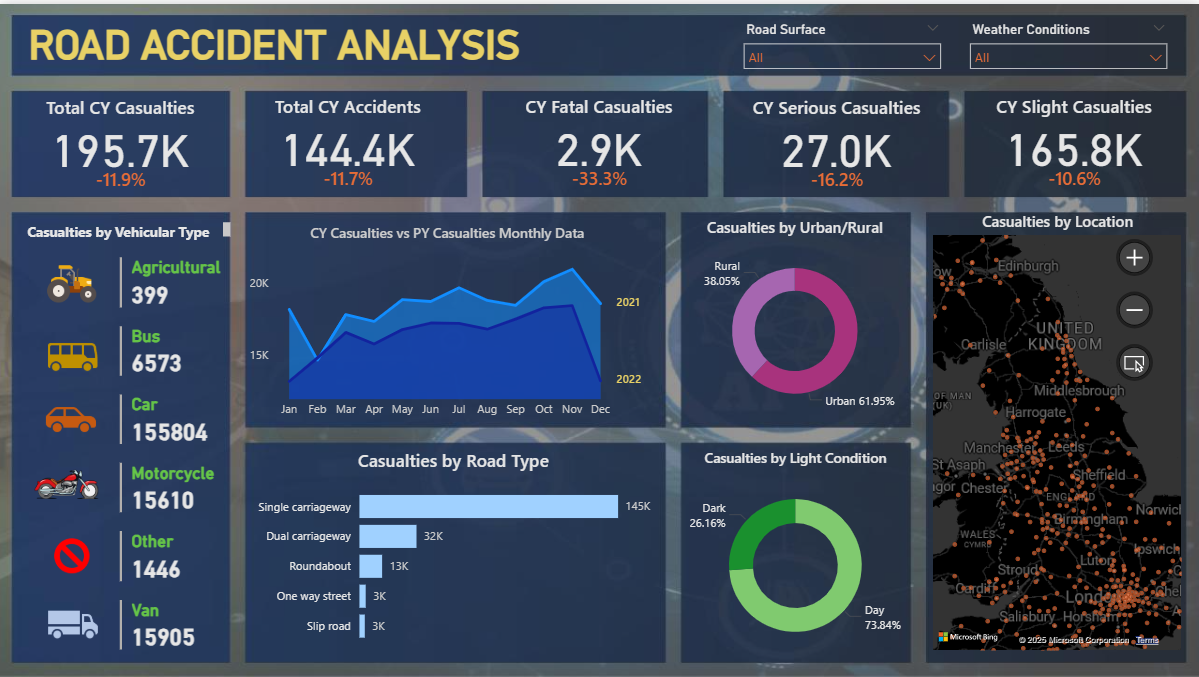

This screenshot's page, from the dashboard's own definition file:
{"tool":"powerbi","page":{"name":"Page 1","canvas":[1280,720],"ordinal":0},"visuals":[{"type":"card","title":"Total CY Accidents","fields":{"Values":["Data.CY Accidents Count"]},"box":[251.1,96.1,242.9,83.5],"z":0,"group":"g2"},{"type":"card","title":" CY Fatal Casualties","fields":{"Values":["Data.CY Casualties"]},"box":[518.5,96.1,242.9,83.5],"z":0,"group":"g3"},{"type":"card","title":" CY Slight Casualties","fields":{"Values":["Data.CY Casualties"]},"box":[1025.4,96.1,242.9,83.5],"z":0,"group":"g5"},{"type":"group","id":"g1","title":"Group 1","box":[8.2,97.4,242.9,120.8],"z":0},{"type":"card","title":"Total CY Casualties","fields":{"Values":["Data.CY Casualties"]},"box":[8.2,97.4,242.9,83.5],"z":0,"group":"g1"},{"type":"card","title":" CY Serious Casualties","fields":{"Values":["Data.CY Casualties"]},"box":[772,97.6,242.9,83.5],"z":0,"group":"g4"},{"type":"group","id":"g2","title":"Group 1","box":[251.1,96.1,244.3,120.8],"z":1000},{"type":"card","fields":{"Values":["Data.YoY Accidents"]},"box":[327.9,159,89.2,57.8],"z":1000,"group":"g2"},{"type":"card","fields":{"Values":["Data.YoY Casualties"]},"box":[595.3,159,89.2,57.8],"z":1000,"group":"g3"},{"type":"card","fields":{"Values":["Data.YoY Casualties"]},"box":[1102.2,159,89.2,57.8],"z":1000,"group":"g5"},{"type":"card","fields":{"Values":["Data.YoY Casualties"]},"box":[85,160.3,89.2,57.8],"z":1000,"group":"g1"},{"type":"card","fields":{"Values":["Data.YoY Casualties"]},"box":[848.8,160.5,89.2,57.8],"z":1000,"group":"g4"},{"type":"group","id":"g3","title":"Group 1","box":[518.5,96.1,241.8,120.9],"z":2000},{"type":"group","id":"g4","title":"Group 1","box":[772,97.6,241.8,120.9],"z":3000},{"type":"group","id":"g5","title":"Group 1","box":[1025.4,96.1,241.8,120.9],"z":4000},{"type":"textbox","box":[26.2,13.1,549.1,62.6],"z":5000},{"type":"multiRowCard","fields":{"Values":["Data.Vehicle_Type (groups)","Data.CY Casualties"]},"box":[123.8,265.1,147.1,454.4],"z":6000},{"type":"image","box":[24.8,627.8,107.8,67],"z":7000},{"type":"image","box":[26.2,492.3,90.3,40.8],"z":8000},{"type":"image","box":[32,265.1,91.8,65.5],"z":9000},{"type":"image","box":[26.2,409.3,100.5,68.5],"z":10000},{"type":"image","box":[49.5,559.3,56.8,59.7],"z":11000},{"type":"image","box":[42.2,342.3,71.4,67],"z":12000},{"type":"textbox","box":[24.7,227.8,226.4,31.6],"z":13000},{"type":"areaChart","title":"CY Casualties vs PY Casualties Monthly Data","fields":{"Category":["Cal.Month"],"Y":["Sum(Data.Number_of_Casualties)"],"Series":["Cal.Date.Variation.Date Hierarchy.Year"]},"box":[262.3,233.6,430.9,217.3],"z":14000},{"type":"donutChart","title":" Casualties by Urban/Rural","fields":{"Category":["Data.Urban_or_Rural_Area"],"Y":["Data.CY Casualties"]},"box":[726.8,227.2,244.7,222.9],"z":15000},{"type":"donutChart","title":"Casualties by Light Condition","fields":{"Y":["Data.CY Casualties"],"Category":["Data.Light_Conditions (groups)"]},"box":[719.5,473.4,259.3,231.6],"z":16000},{"type":"barChart","title":"Casualties by Road Type","fields":{"Category":["Data.Road_Type"],"Y":["Data.CY Casualties"]},"box":[262.2,473.4,444.2,221.4],"z":17000},{"type":"map","title":"Casualties by Location","fields":{"X":["Data.Longitude"],"Y":["Data.Latitude"],"Category":["Data.Local_Authority_(District)"]},"box":[992.1,219.6,274.4,474.8],"z":18000},{"type":"slicer","fields":{"Values":["Data.Weather_Conditions (groups)"]},"box":[1025.1,13.5,231.1,63],"z":19000},{"type":"slicer","fields":{"Values":["Data.Road_Surface_Conditions (groups)"]},"box":[783.5,13.5,231.1,63],"z":20000}]}

Visuals, with their boxes in screenshot pixels (x1, y1, x2, y2), scaled from the page's 1280x720 canvas onto the 1199x677 screenshot:
"Total CY Accidents" card: 235, 90, 463, 169
" CY Fatal Casualties" card: 486, 90, 713, 169
" CY Slight Casualties" card: 961, 90, 1188, 169
"Group 1" group: 8, 92, 235, 205
"Total CY Casualties" card: 8, 92, 235, 170
" CY Serious Casualties" card: 723, 92, 951, 170
"Group 1" group: 235, 90, 464, 204
card - Data.YoY Accidents: 307, 150, 391, 204
card - Data.YoY Casualties: 558, 150, 641, 204
card - Data.YoY Casualties: 1032, 150, 1116, 204
card - Data.YoY Casualties: 80, 151, 163, 205
card - Data.YoY Casualties: 795, 151, 879, 205
"Group 1" group: 486, 90, 712, 204
"Group 1" group: 723, 92, 950, 205
"Group 1" group: 961, 90, 1187, 204
textbox: 25, 12, 539, 71
multiRowCard - Data.Vehicle_Type (groups) x Data.CY Casualties: 116, 249, 254, 676
image: 23, 590, 124, 653
image: 25, 463, 109, 501
image: 30, 249, 116, 311
image: 25, 385, 119, 449
image: 46, 526, 100, 582
image: 40, 322, 106, 385
textbox: 23, 214, 235, 244
"CY Casualties vs PY Casualties Monthly Data" areaChart: 246, 220, 649, 424
" Casualties by Urban/Rural" donutChart: 681, 214, 910, 423
"Casualties by Light Condition" donutChart: 674, 445, 917, 663
"Casualties by Road Type" barChart: 246, 445, 662, 653
"Casualties by Location" map: 929, 206, 1186, 653
slicer - Data.Weather_Conditions (groups): 960, 13, 1177, 72
slicer - Data.Road_Surface_Conditions (groups): 734, 13, 950, 72
